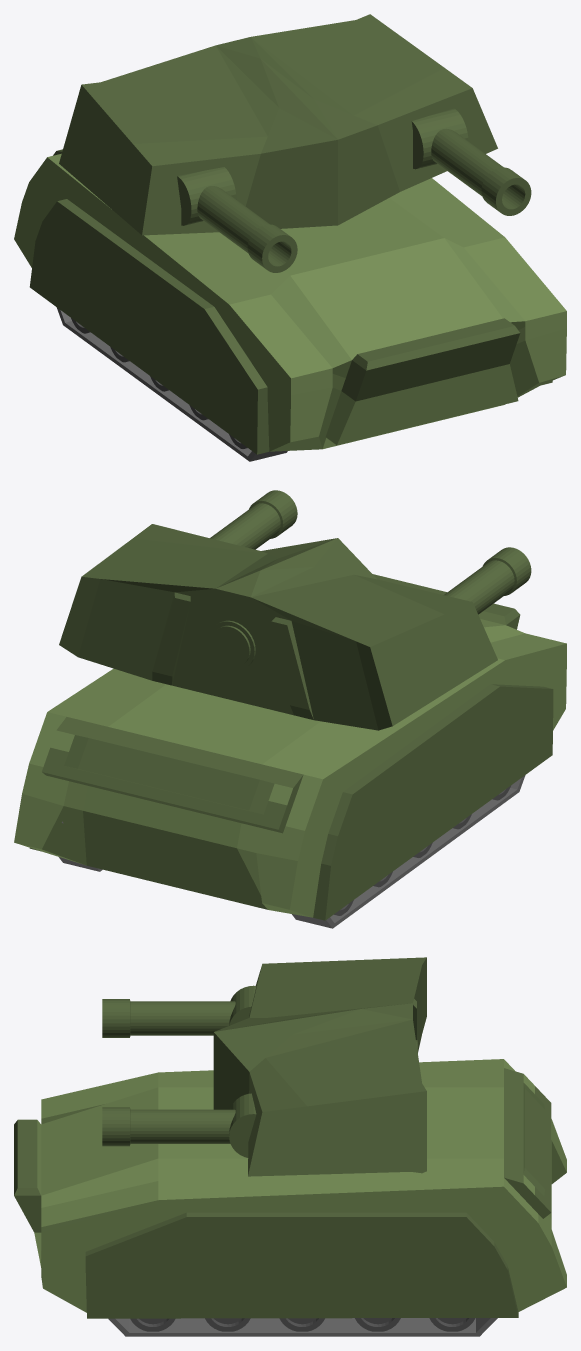
The model's file is tier2.fbx.
The picture shows the model from 3 angles, top to bottom: view 1: azimuth 30°, elevation 25°; view 2: azimuth 150°, elevation 25°; view 3: azimuth 270°, elevation 25°; orthographic projection. The views are drawn at different scales.
Visible parts, largest first — view 1: Body11, Turret11, Main Gun11, Tracks11; view 2: Body11, Turret11, Main Gun11, Tracks11; view 3: Body11, Turret11, Main Gun11, Tracks11, Road Wheels11.
Part boxes in pixels (bbox=[...]): Body11: bbox=[14, 149, 566, 454]; Turret11: bbox=[59, 14, 497, 235]; Main Gun11: bbox=[177, 108, 531, 272]; Tracks11: bbox=[56, 307, 287, 461]; Body11: bbox=[14, 574, 566, 920]; Turret11: bbox=[59, 524, 497, 730]; Main Gun11: bbox=[210, 490, 531, 614]; Tracks11: bbox=[59, 775, 525, 928]; Body11: bbox=[14, 1059, 566, 1318]; Turret11: bbox=[213, 957, 426, 1176]; Main Gun11: bbox=[102, 985, 256, 1157]; Tracks11: bbox=[108, 1318, 497, 1336]; Road Wheels11: bbox=[130, 1318, 475, 1331].
Bounding box in the file's own units: 465 × 349 × 659.
